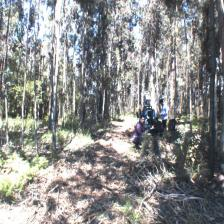trunktrack_idkeyframe: (209, 62, 216, 166), (52, 77, 57, 148)
